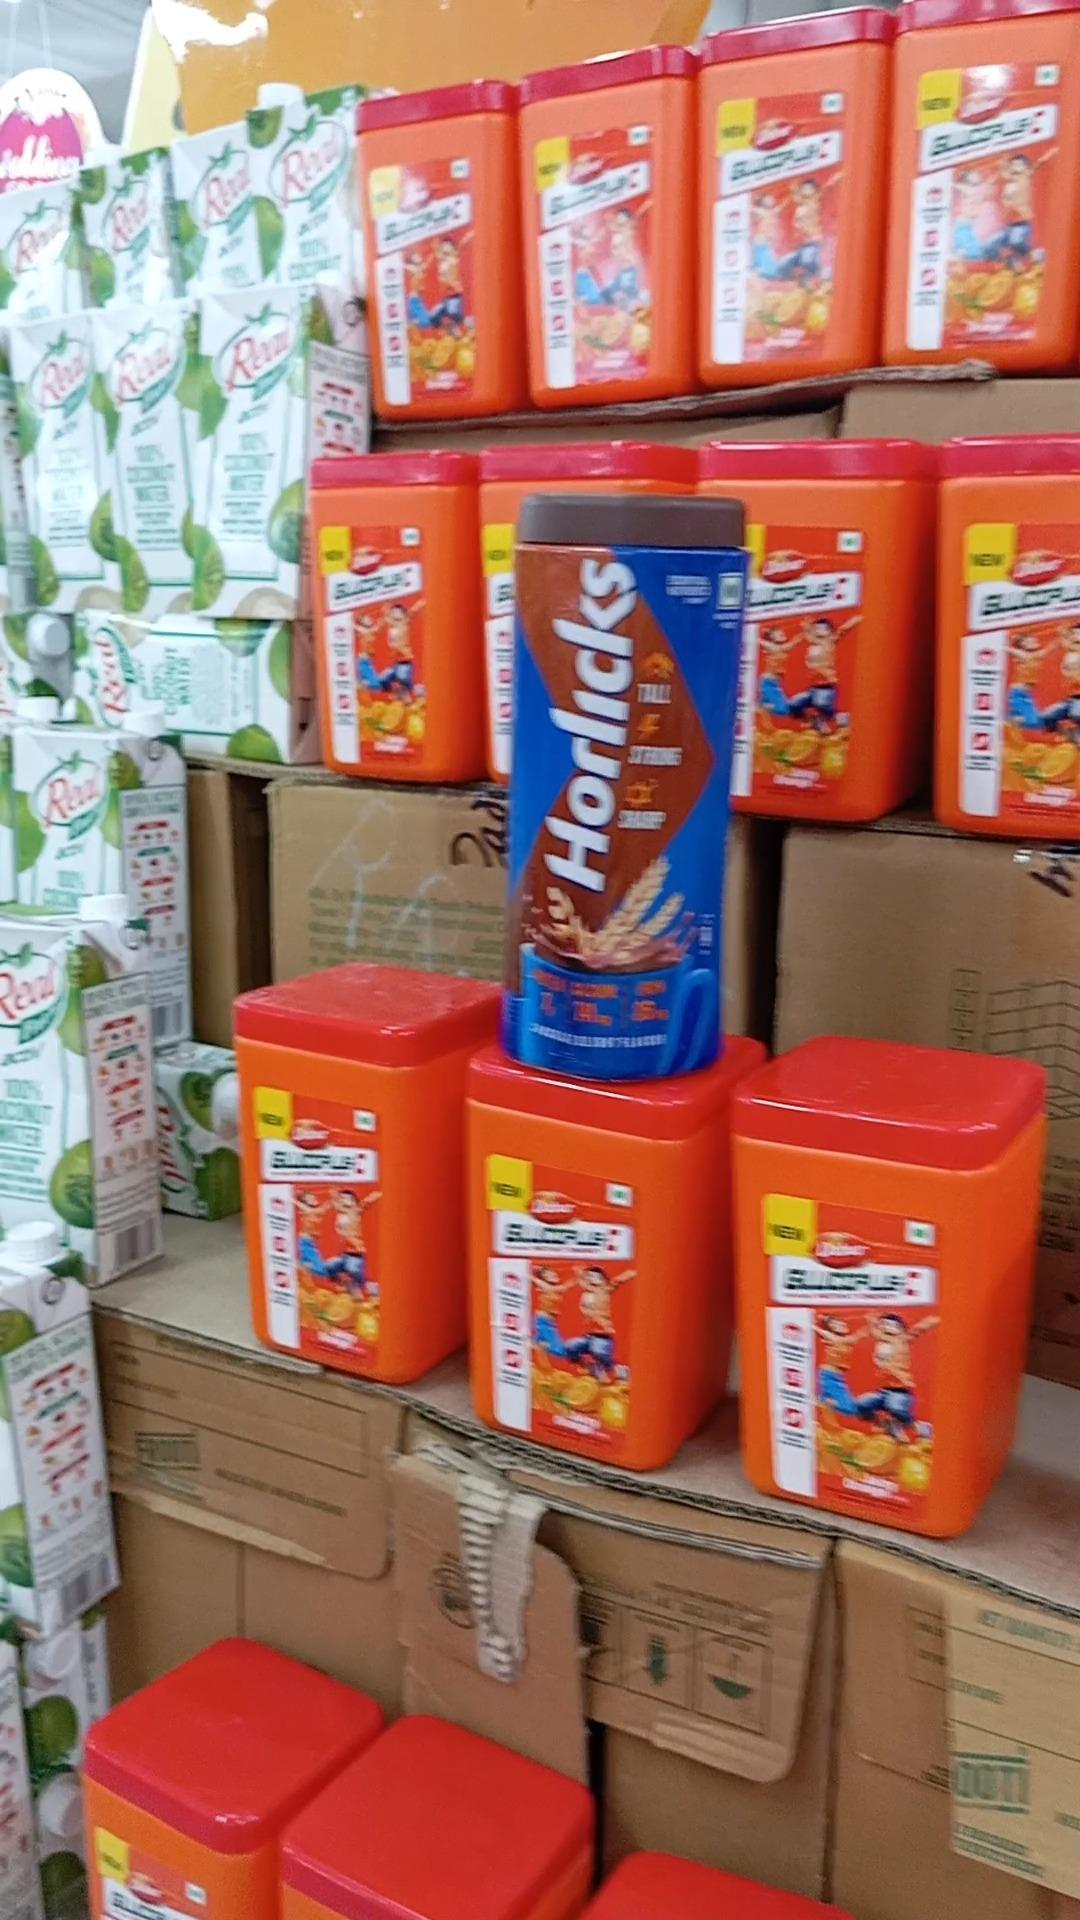HORLICK_CHOCOLATE_1_KG_JAR: (504, 480, 750, 1084)
